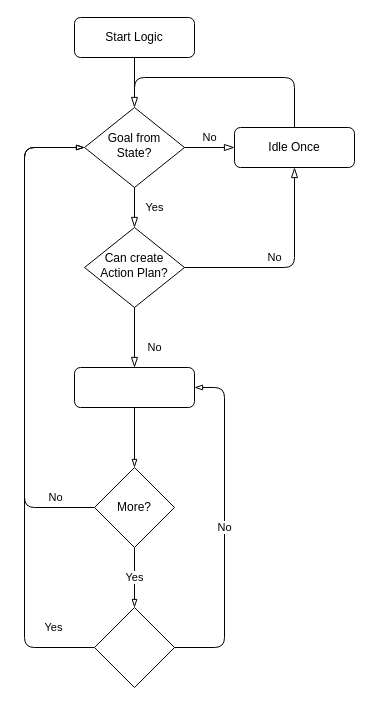
Some shapes in this 372 by 705 pixel diagram are drawn without their labels. The shapes that lost their labels are listed below. From the top down, each one's centre as x and y in pixels, then its label:
(x=134, y=387): Pop Next Action and Execute
(x=134, y=647): Interrupt Received?
